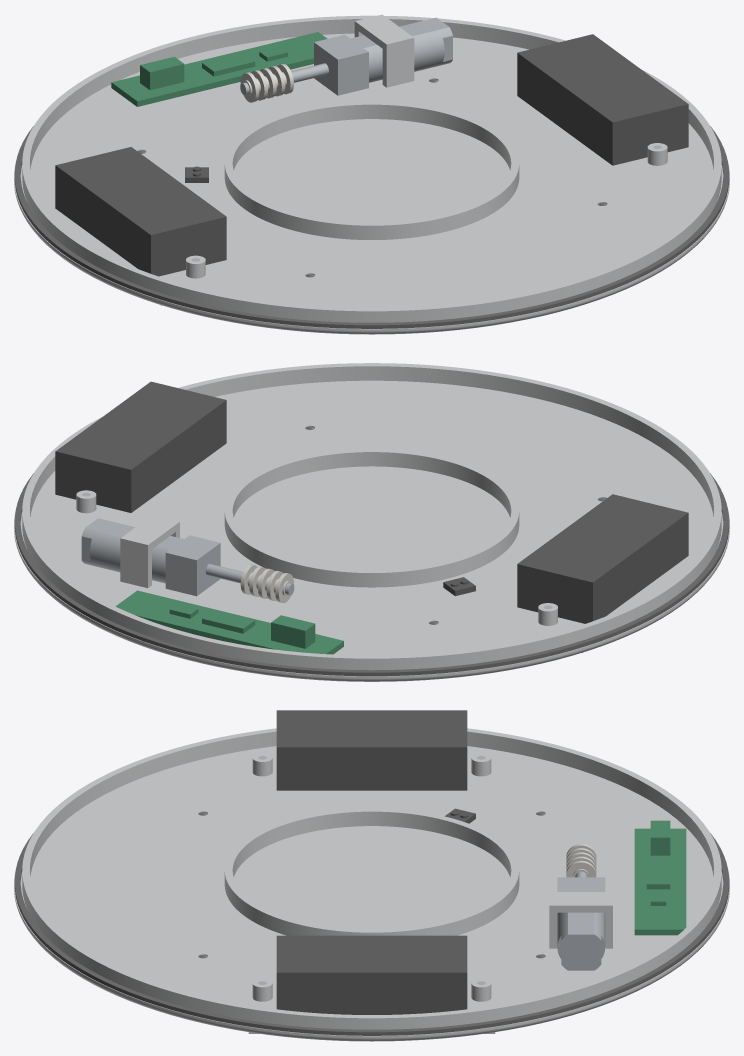
Rendered from esp2025_sa3_base.glb.
3 views of the same model, one above another, from view 1: azimuth 30°, elevation 25°; view 2: azimuth 150°, elevation 25°; view 3: azimuth 270°, elevation 25° (orthographic).
Parts seen in each view (by area): view 1: bottom cover, battery holder, right, battery holder, left, base gasket, main circuit board, gear motor, motor clamp, worm; view 2: bottom cover, battery holder, right, battery holder, left, base gasket, main circuit board, gear motor, motor clamp, worm; view 3: bottom cover, battery holder, left, battery holder, right, base gasket, main circuit board, gear motor, motor clamp, worm.
Part boxes in pixels (<box>): bottom cover: <box>14,15,729,334</box>; battery holder, right: <box>517,34,688,165</box>; battery holder, left: <box>55,147,226,276</box>; base gasket: <box>14,126,729,328</box>; main circuit board: <box>111,32,327,106</box>; gear motor: <box>240,17,452,95</box>; motor clamp: <box>354,14,414,87</box>; worm: <box>240,64,293,102</box>; bottom cover: <box>14,363,729,681</box>; battery holder, right: <box>55,381,226,512</box>; battery holder, left: <box>517,494,688,623</box>; base gasket: <box>14,473,729,676</box>; main circuit board: <box>115,590,343,654</box>; gear motor: <box>81,518,294,596</box>; motor clamp: <box>120,515,179,588</box>; worm: <box>240,564,293,603</box>; bottom cover: <box>14,728,729,1041</box>; battery holder, left: <box>276,710,467,790</box>; battery holder, right: <box>276,935,467,1014</box>; base gasket: <box>14,833,729,1035</box>; main circuit board: <box>634,820,686,935</box>; gear motor: <box>557,871,605,970</box>; motor clamp: <box>549,892,612,948</box>; worm: <box>566,844,596,877</box>.
Size of the model in its own units: 180 by 17 by 180.
